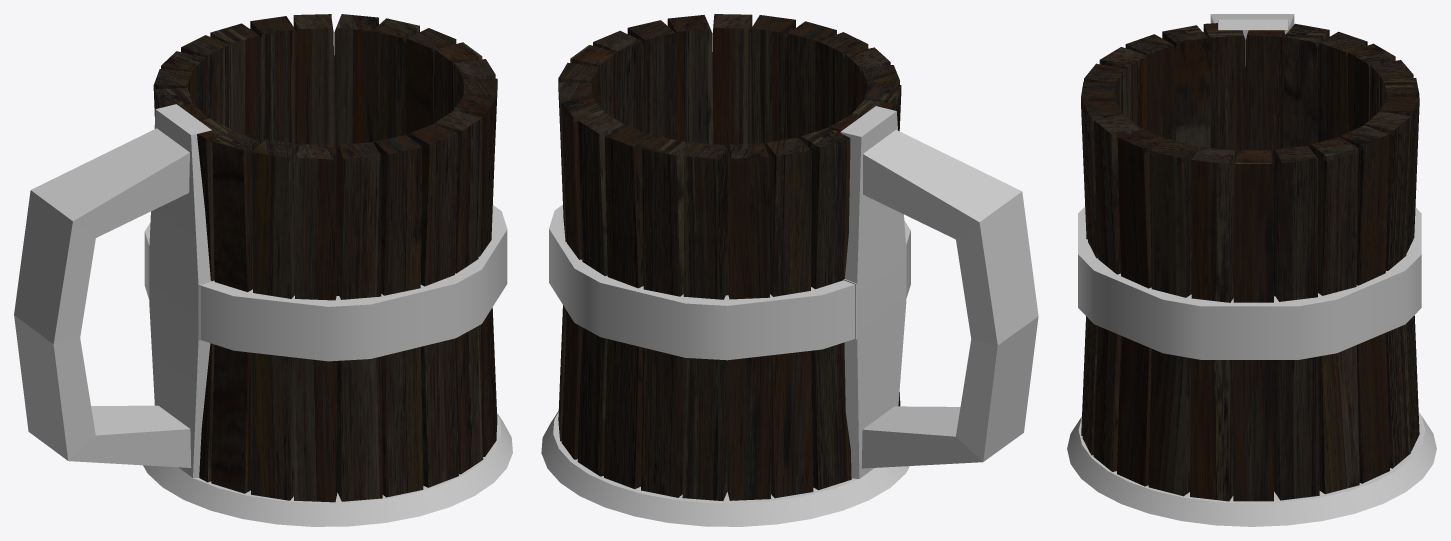
Rendered from taza.fbx.
The picture shows the model from 3 angles, left to right: view 1: azimuth 30°, elevation 25°; view 2: azimuth 150°, elevation 25°; view 3: azimuth 270°, elevation 25°; orthographic projection.
Parts seen in each view (by area): view 1: TazaMetal, TazaMetal.001; view 2: TazaMetal, TazaMetal.001; view 3: TazaMetal, TazaMetal.001.
Part boxes in pixels (bbox=[...]): TazaMetal: bbox=[153, 14, 497, 502]; TazaMetal.001: bbox=[14, 104, 512, 526]; TazaMetal: bbox=[558, 14, 901, 500]; TazaMetal.001: bbox=[541, 106, 1038, 526]; TazaMetal: bbox=[1081, 23, 1419, 501]; TazaMetal.001: bbox=[1067, 14, 1436, 526].
Size of the model in its own units: 20.18 by 15.37 by 14.47.
